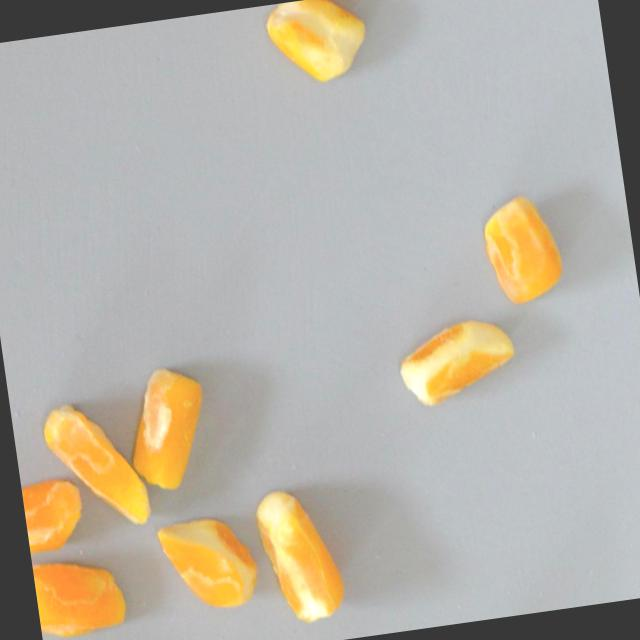pelicula: (38, 392, 152, 539), (250, 482, 350, 629), (117, 361, 219, 496), (394, 312, 521, 410), (155, 509, 262, 616), (475, 192, 570, 307), (31, 549, 131, 640), (20, 476, 89, 557)
